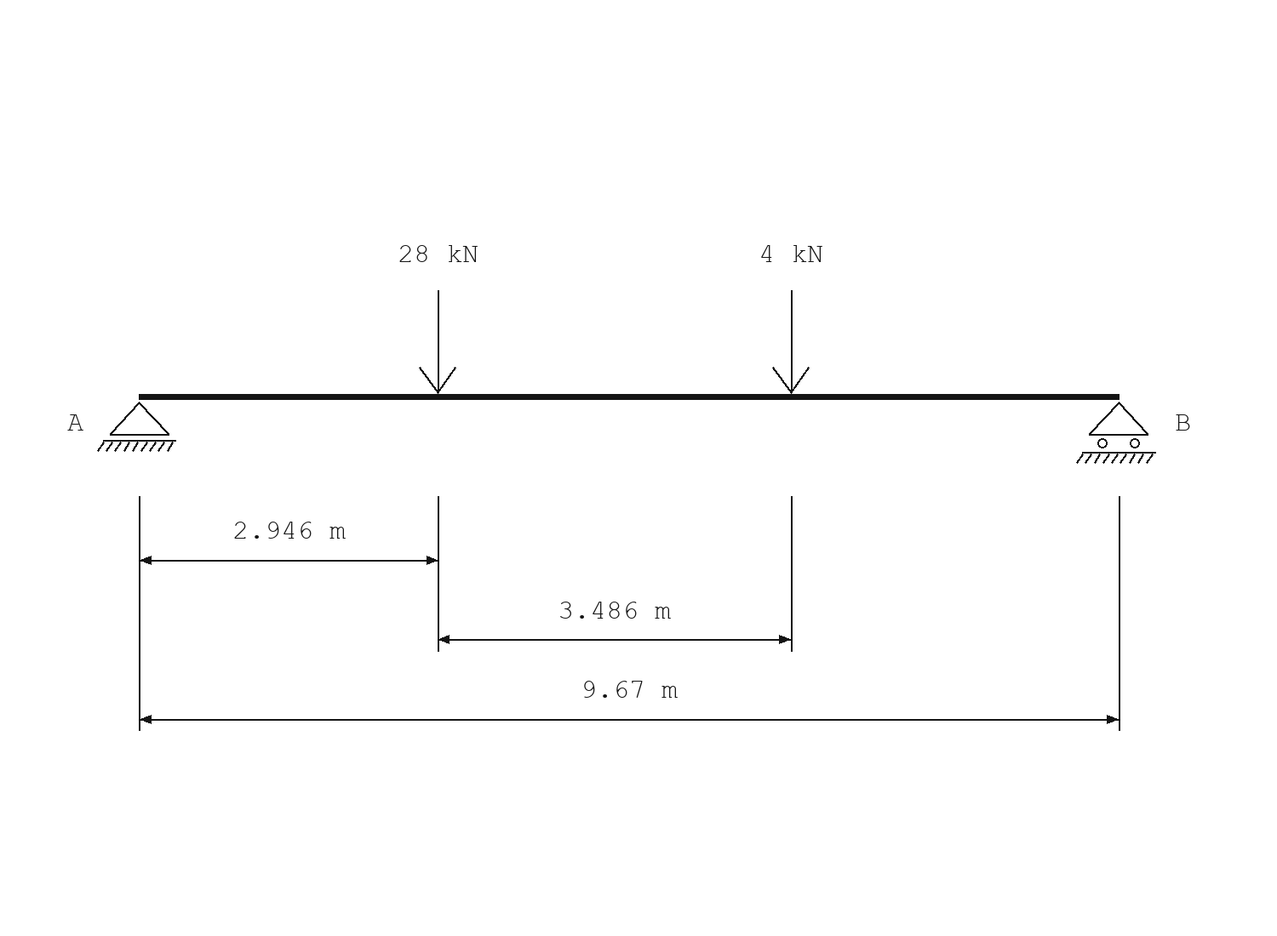pin_support: (97, 402, 176, 452)
point_load: (772, 290, 810, 394), (419, 290, 456, 394)
roller_support: (1076, 402, 1156, 464)
